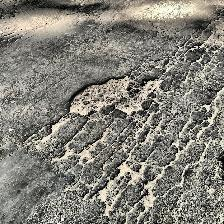pothole: (65, 75, 162, 117)
